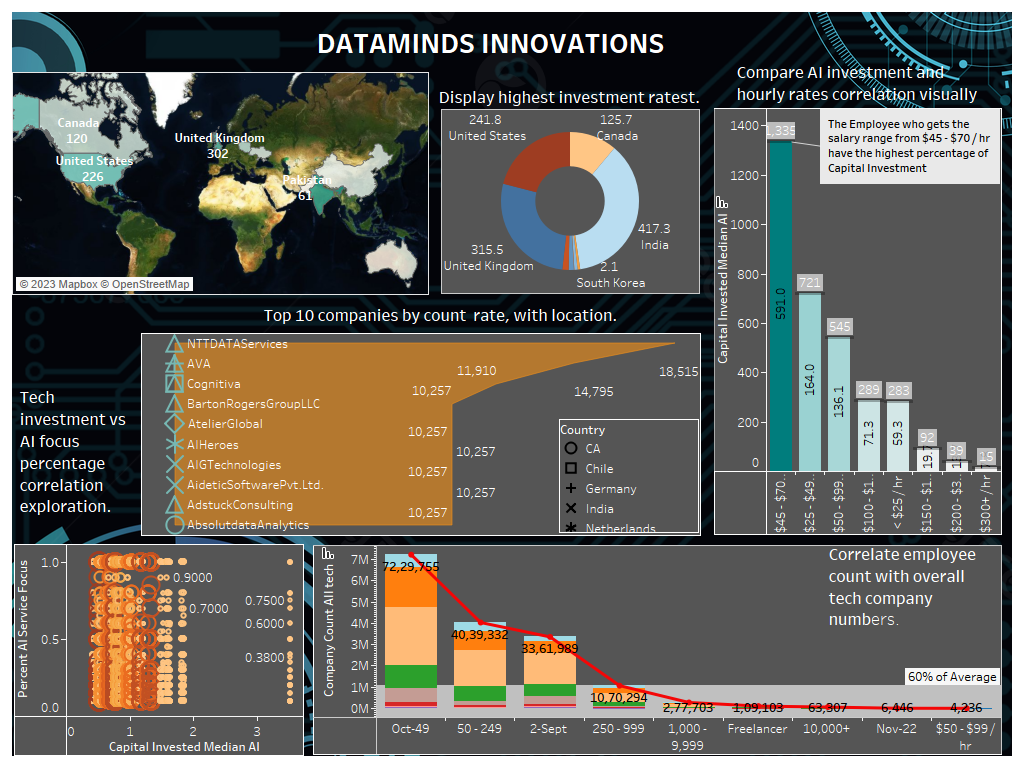

This screenshot's page, from the dashboard's own definition file:
{"tool":"tableau","page":{"name":"Dataminds Innovations","canvas":[1024,768],"ordinal":0},"visuals":[{"type":"image","param":"Image/ai.jpg","box":[8,8,1008,752]},{"type":"text","box":[314,8,391,68]},{"type":"text","box":[734,53,256,60]},{"type":"worksheet","title":"Global Landscape of AI Companies","mark":"Multipolygon","box":[12,72,417,223]},{"type":"text","box":[436,82,266,30]},{"type":"worksheet","title":"Financial Overview","mark":"Automatic","rows":["Capital Invested Median AI"],"cols":["Average Hourly Rate"],"box":[714,108,288,427]},{"type":"worksheet","title":"Pie Chart","mark":"Pie","cols":["Calculation_674695545245429778","Calculation_674695545245798420"],"box":[441,109,259,185]},{"type":"text","box":[261,290,379,49]},{"type":"worksheet","title":"Top 10 compaies and their locations","mark":"Shape","rows":["Company_Name"],"cols":["Company Count All tech","Calculation_674695545251414039"],"box":[141,333,560,203]},{"type":"text","box":[17,367,122,170]},{"type":"legend","title":"Top 10 compaies and their locations","param":"[federated.0hxdqo61dml46213d39am00549wf].[none:Country:nk]","box":[559,419,140,114]},{"type":"text","box":[826,530,174,114]},{"type":"worksheet","title":"AI Service Focus vs. Capital Invested","mark":"Automatic","rows":["Percent AI Service Focus"],"cols":["Capital Invested Median AI"],"box":[14,544,291,212]},{"type":"worksheet","title":"Company Size Breakdown","mark":"Automatic","rows":["Company Count All tech","Company Count All tech"],"cols":["Number of Employees"],"box":[313,545,689,210]}]}

Visuals, with their boxes in screenshot pixels (x1, y1, x2, y2), scaled from the page's 1024x768 canvas onto the 1024x768 screenshot:
image: select_region(8, 8, 1016, 760)
text: select_region(314, 8, 705, 76)
text: select_region(734, 53, 990, 113)
"Global Landscape of AI Companies" worksheet (Multipolygon marks): select_region(12, 72, 429, 295)
text: select_region(436, 82, 702, 112)
"Financial Overview" worksheet: select_region(714, 108, 1002, 535)
"Pie Chart" worksheet (Pie marks): select_region(441, 109, 700, 294)
text: select_region(261, 290, 640, 339)
"Top 10 compaies and their locations" worksheet (Shape marks): select_region(141, 333, 701, 536)
text: select_region(17, 367, 139, 537)
"Top 10 compaies and their locations" legend: select_region(559, 419, 699, 533)
text: select_region(826, 530, 1000, 644)
"AI Service Focus vs. Capital Invested" worksheet: select_region(14, 544, 305, 756)
"Company Size Breakdown" worksheet: select_region(313, 545, 1002, 755)
